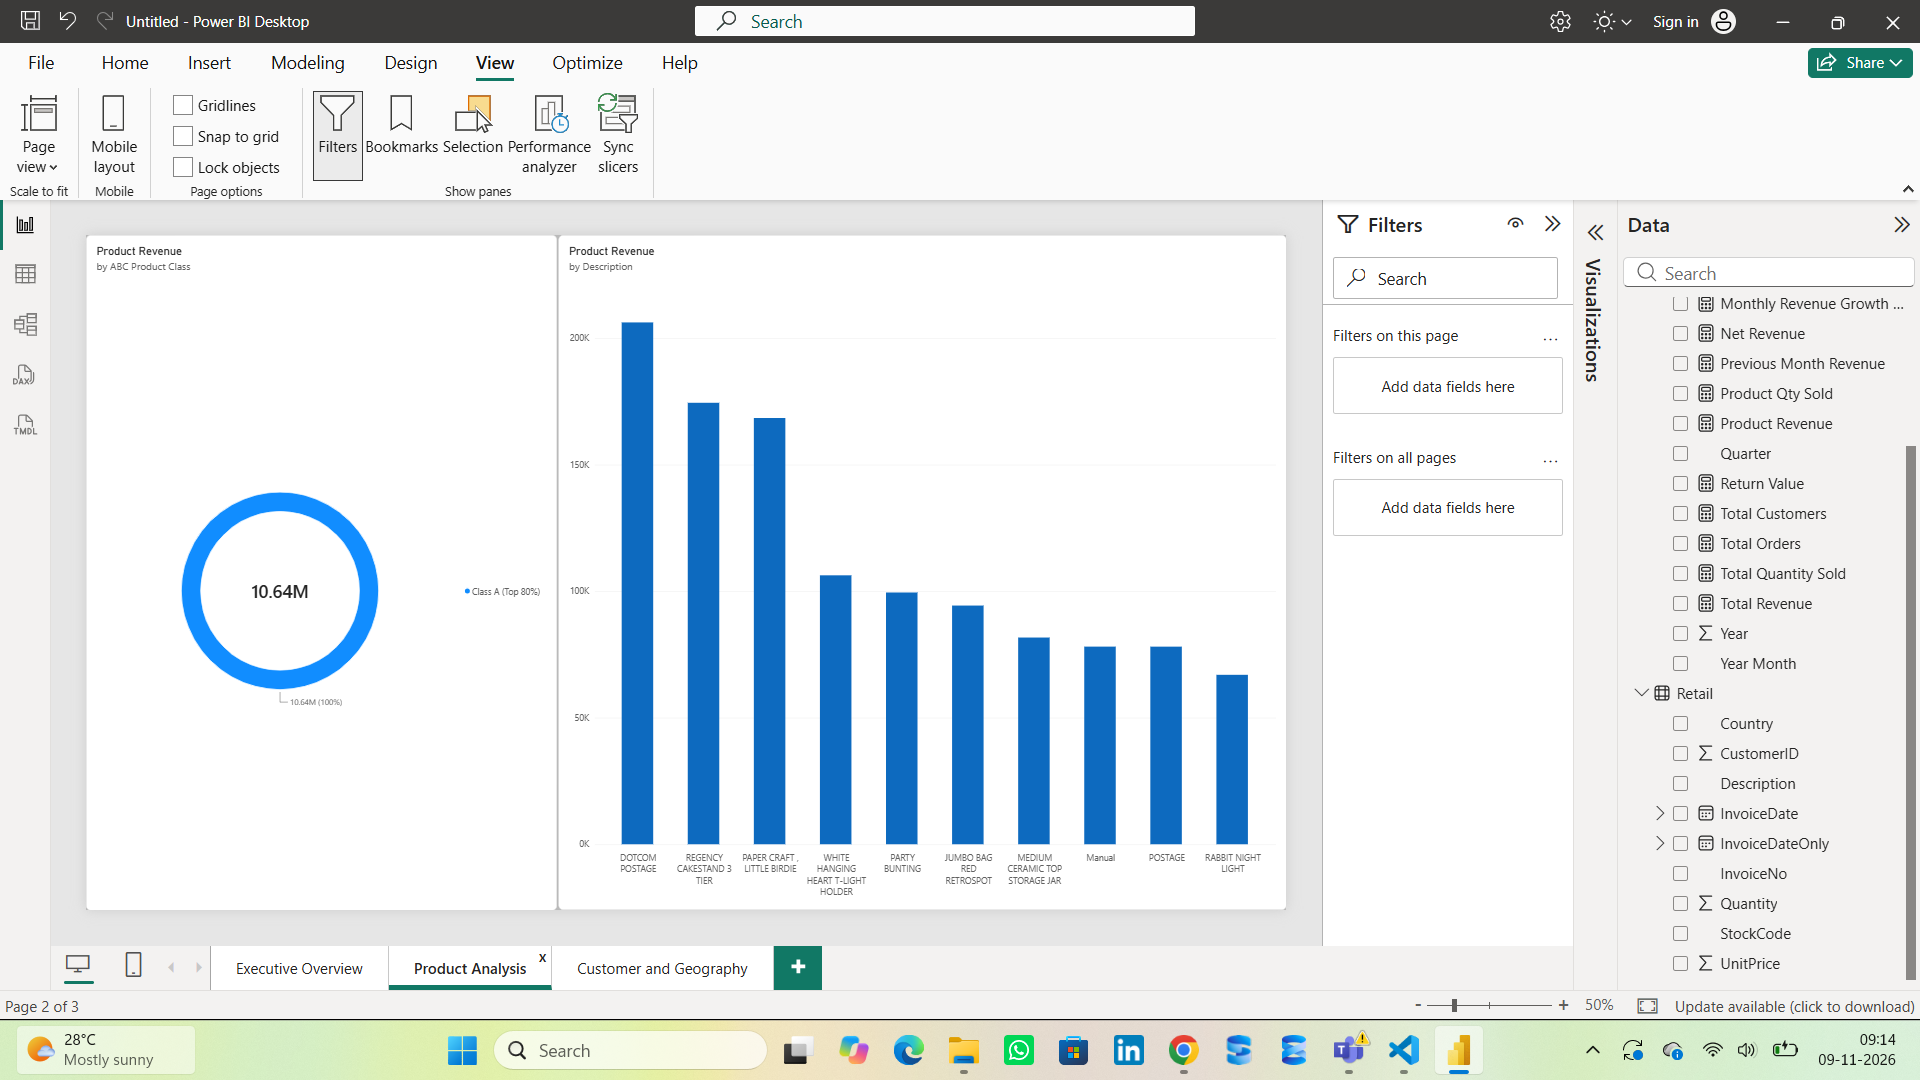

The dashboard page shown, as its layout file describes it:
{"tool":"powerbi","page":{"name":"Product Analysis","canvas":[1920,1080],"ordinal":1},"visuals":[{"type":"clusteredColumnChart","fields":{"Category":["Retail.Description"],"Y":["DateTable.Product Revenue"]},"box":[755,0,1165,1080],"z":0},{"type":"donutChart","fields":{"Category":["DateTable.ABC Product Class"],"Y":["DateTable.Product Revenue"]},"box":[0,0,753.3,1080.6],"z":1000}]}

Visuals, with their boxes on the page's 1920x1080 design canvas (x1, y1, x2, y2). These are canvas units, not pixel positions in the 1920x1080 screenshot, which may show the page scaled, cropped or inside an application window:
clusteredColumnChart - Retail.Description x DateTable.Product Revenue: <box>755,0,1920,1080</box>
donutChart - DateTable.ABC Product Class x DateTable.Product Revenue: <box>0,0,753,1081</box>
